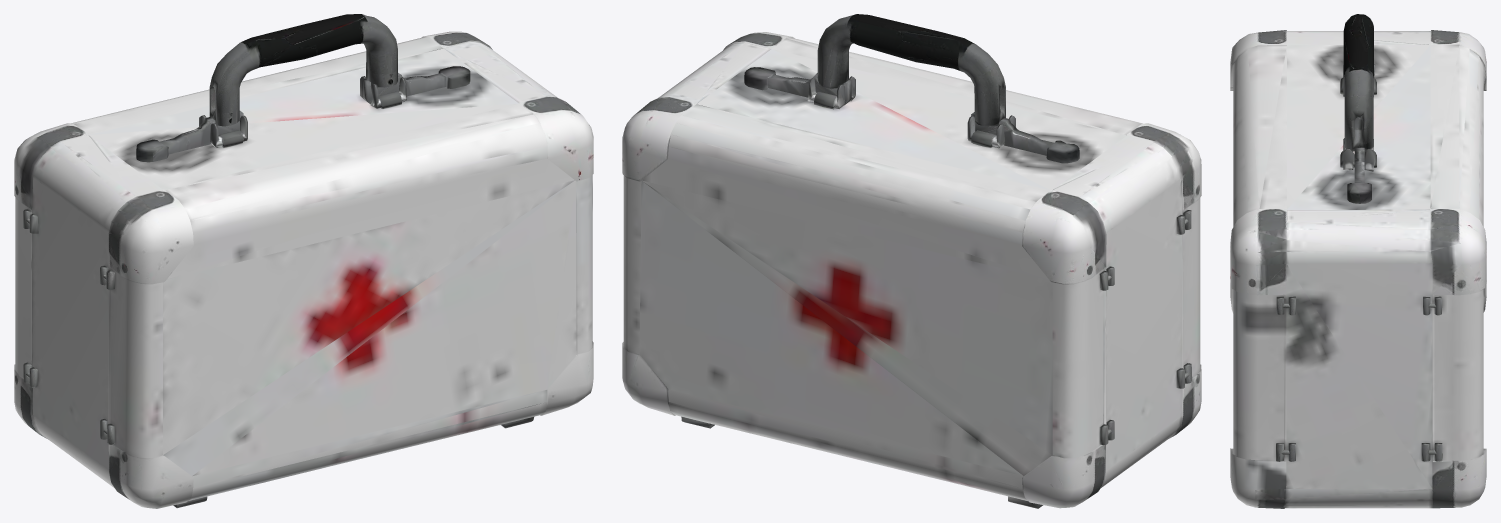
The model's file is s_medkit.glb.
The picture shows the model from 3 angles, left to right: view 1: azimuth 30°, elevation 25°; view 2: azimuth 150°, elevation 25°; view 3: azimuth 270°, elevation 25°; orthographic projection. The views are drawn at different scales.
Size of the model in its own units: 0.957 by 0.771 by 0.4692.
1 material, 1 textured.
